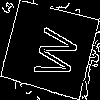W: (24, 24, 80, 82)
